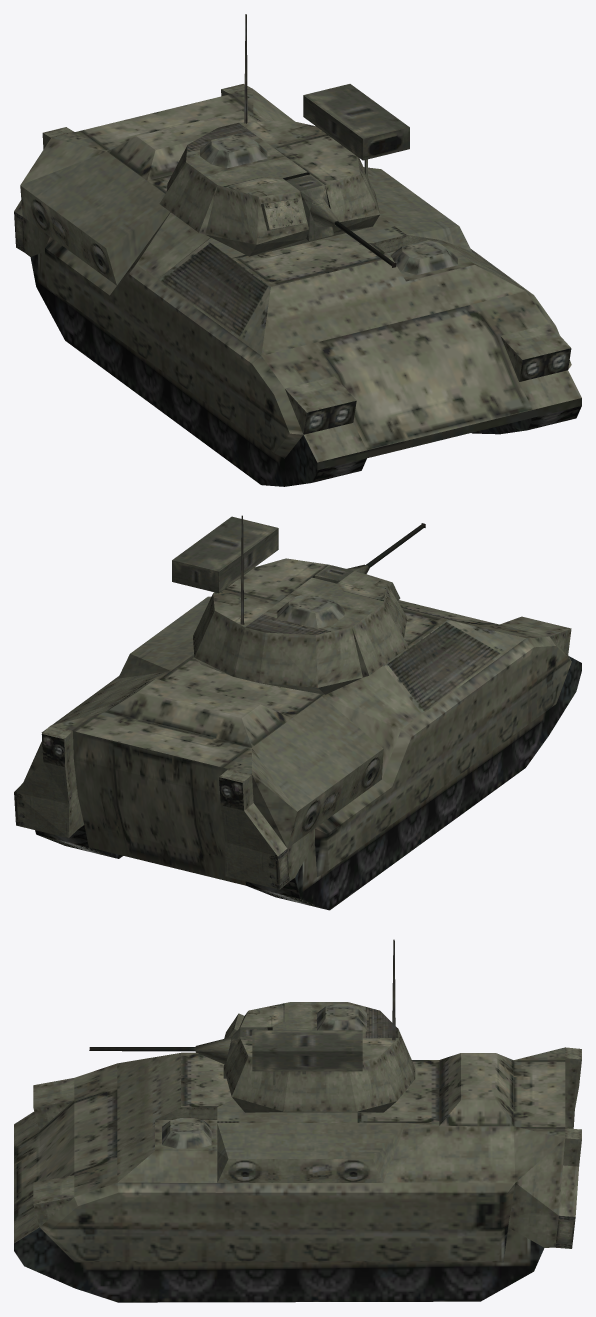
File: fm3brd.glb
The picture shows the model from 3 angles, top to bottom: view 1: azimuth 30°, elevation 25°; view 2: azimuth 150°, elevation 25°; view 3: azimuth 270°, elevation 25°; orthographic projection. The views are drawn at different scales.
Parts seen in each view (by area): view 1: _fm3brd; view 2: _fm3brd; view 3: _fm3brd.
Boxes of the visible parts, x1,y1,x2,y2 form: _fm3brd: (14,14,581,486); _fm3brd: (14,515,581,910); _fm3brd: (14,939,581,1302).
Size of the model in its own units: 3.41 by 3.79 by 6.42.
1 material, 1 textured.
